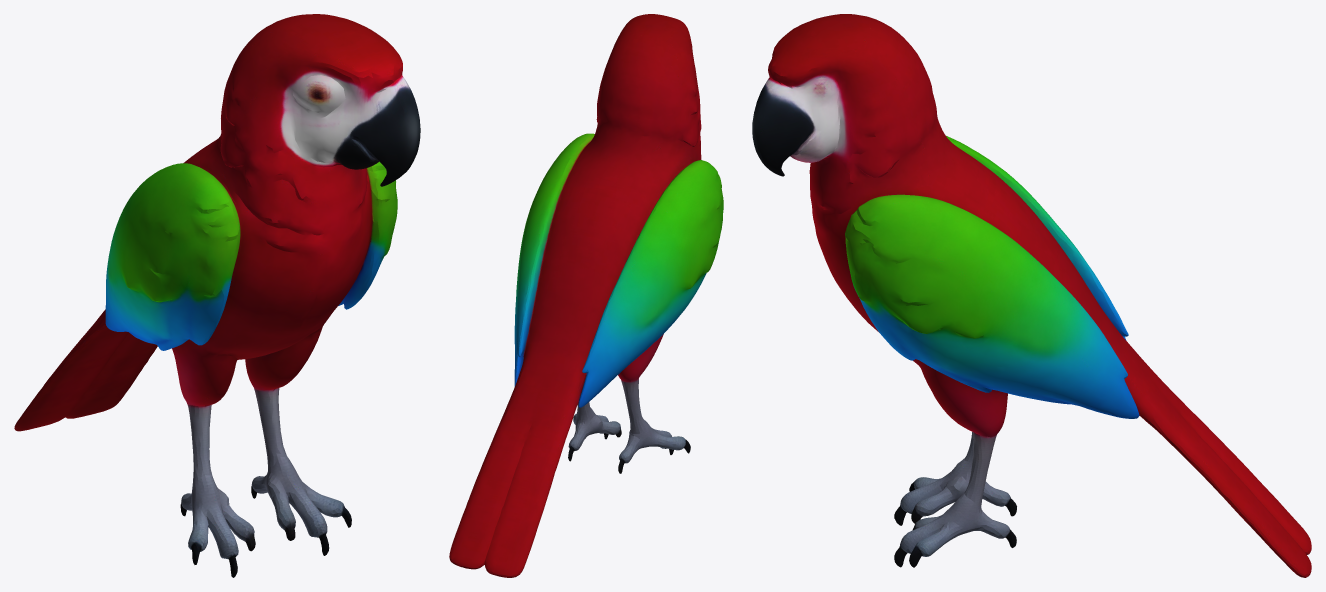
Rendered from Macaw.glb.
3 views of the same model, side by side, from view 1: azimuth 30°, elevation 25°; view 2: azimuth 150°, elevation 25°; view 3: azimuth 270°, elevation 25° (orthographic). The views are drawn at different scales.
Size of the model in its own units: 0.7988 by 1.89 by 1.78.
1 material, 1 textured.
